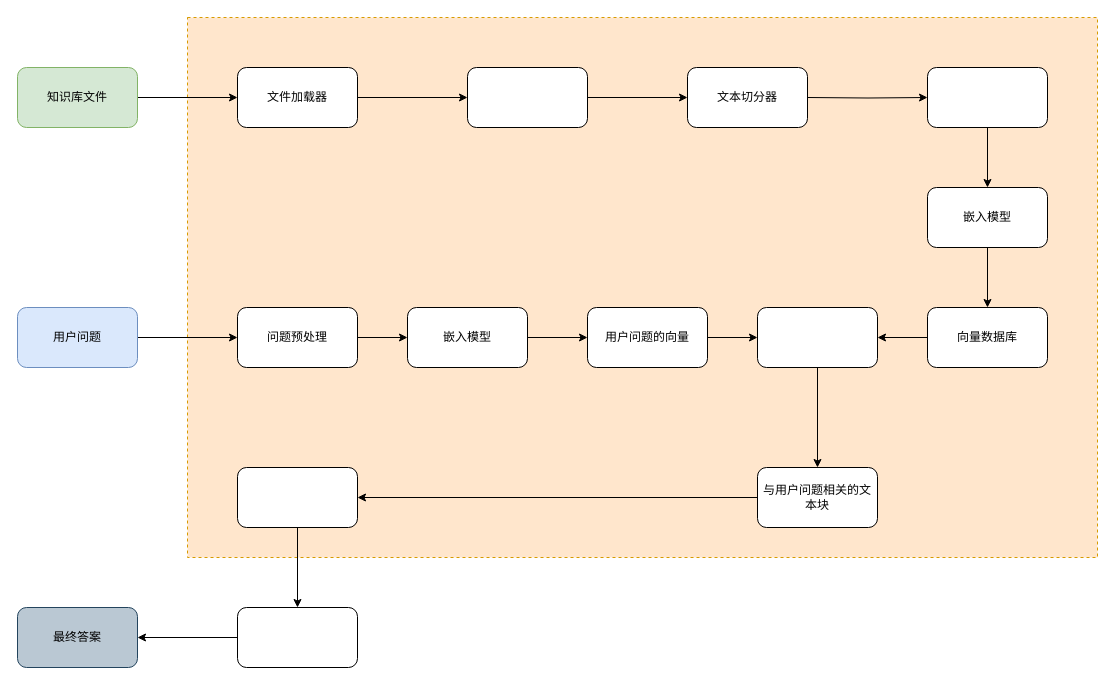
The diagram is 1115 pixels wide and 685 high, and some of its shapes have lost their labels. Each missing label, with the centre of its shape:
"向量相似度" belongs at point (817, 337).
"大模型" belongs at point (297, 637).
"大模型提示词" belongs at point (297, 497).
"文本" belongs at point (527, 97).
"文本块" belongs at point (987, 97).
